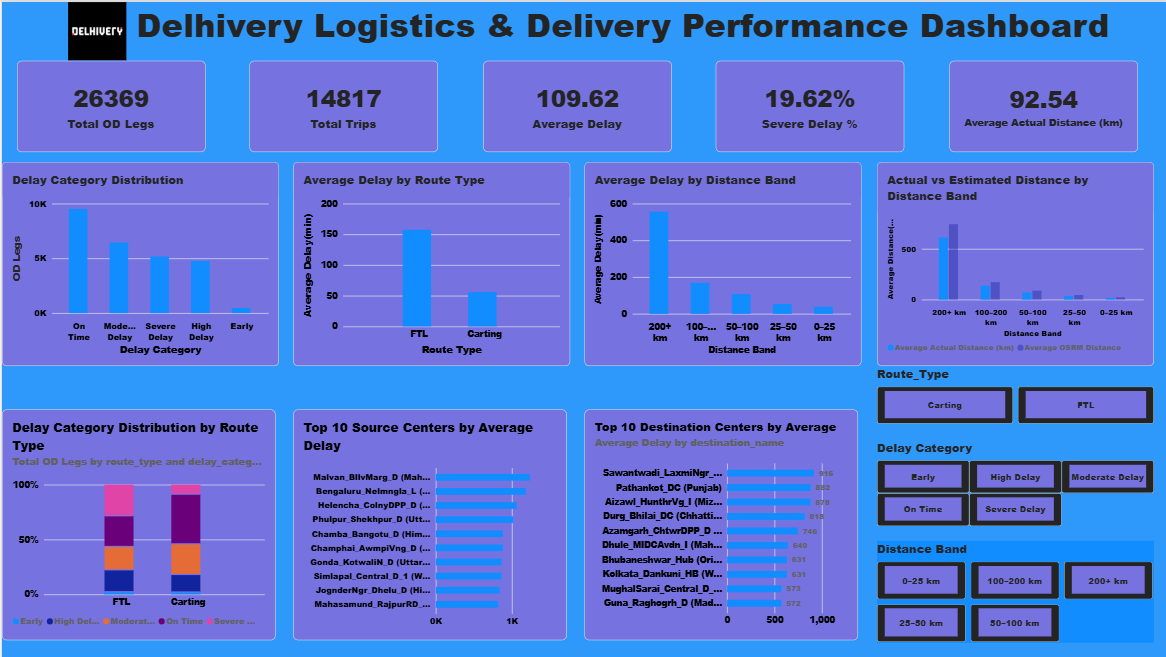

Layout of this report page (visuals, bound fields, positions):
{"tool":"powerbi","page":{"name":"Dashboard","canvas":[1920,1080],"ordinal":2},"visuals":[{"type":"card","fields":{"Values":["Delhivery_od_leg_analysis.Total OD Legs"]},"box":[24,96,310,150],"z":0},{"type":"card","fields":{"Values":["Delhivery_od_leg_analysis.Total Trips"]},"box":[408,96,310,150],"z":1000},{"type":"card","fields":{"Values":["Delhivery_od_leg_analysis.Average Delay"]},"box":[792,96,310,150],"z":2000},{"type":"card","fields":{"Values":["Delhivery_od_leg_analysis.Severe Delay %"]},"box":[1176,96,310,150],"z":3000},{"type":"card","fields":{"Values":["Delhivery_od_leg_analysis.Average Actual Distance (km)"]},"box":[1560,96,310,150],"z":4000},{"type":"clusteredColumnChart","title":"Delay Category Distribution","fields":{"Category":["Delhivery_od_leg_analysis.delay_category"],"Y":["Delhivery_od_leg_analysis.Total OD Legs"]},"box":[0,264,456,336],"z":5000},{"type":"columnChart","title":"Average Delay by Route Type","fields":{"Category":["Delhivery_od_leg_analysis.route_type"],"Y":["Delhivery_od_leg_analysis.Average Delay"]},"box":[480,264,456,336],"z":6000},{"type":"columnChart","title":"Average Delay by Distance Band","fields":{"Category":["Delhivery_od_leg_analysis.distance_band"],"Y":["Delhivery_od_leg_analysis.Average Delay"]},"box":[960,264,456,336],"z":7000},{"type":"clusteredColumnChart","title":"Actual vs Estimated Distance by Distance Band","fields":{"Category":["Delhivery_od_leg_analysis.distance_band"],"Y":["Delhivery_od_leg_analysis.Average Actual Distance (km)","Delhivery_od_leg_analysis.Average OSRM Distance"]},"box":[1440,264,456,336],"z":8000},{"type":"hundredPercentStackedColumnChart","title":"Delay Category Distribution by Route Type","fields":{"Category":["Delhivery_od_leg_analysis.route_type"],"Y":["Delhivery_od_leg_analysis.Total OD Legs"],"Series":["Delhivery_od_leg_analysis.delay_category"]},"box":[0,672,450,380],"z":9000},{"type":"clusteredBarChart","title":"Top 10 Source Centers by Average Delay","fields":{"Category":["Delhivery_od_leg_analysis.source_name"],"Y":["Delhivery_od_leg_analysis.Average Delay"]},"box":[480,672,450,380],"z":9001},{"type":"clusteredBarChart","title":"Top 10 Destination Centers by Average","fields":{"Category":["Delhivery_od_leg_analysis.destination_name"],"Y":["Delhivery_od_leg_analysis.Average Delay"]},"box":[960,672,450,380],"z":9002},{"type":"textbox","box":[0,0,1920,96],"z":9003},{"type":"image","box":[96,0,120,96],"z":9004},{"type":"advancedSlicerVisual","title":"Route_Type","fields":{"Values":["Delhivery_od_leg_analysis.route_type"]},"box":[1440,600,456,96],"z":9005},{"type":"advancedSlicerVisual","title":"Delay Category","fields":{"Values":["Delhivery_od_leg_analysis.delay_category"]},"box":[1440,720,456,144],"z":9006},{"type":"advancedSlicerVisual","title":"Distance Band","fields":{"Values":["Delhivery_od_leg_analysis.distance_band"]},"box":[1440,888,456,168],"z":9007}]}

Visuals, with their boxes in screenshot pixels (x1, y1, x2, y2), scaled from the page's 1920x1080 canvas onto the 1166x657 screenshot:
card - Delhivery_od_leg_analysis.Total OD Legs: l=15, t=58, r=203, b=150
card - Delhivery_od_leg_analysis.Total Trips: l=248, t=58, r=436, b=150
card - Delhivery_od_leg_analysis.Average Delay: l=481, t=58, r=669, b=150
card - Delhivery_od_leg_analysis.Severe Delay %: l=714, t=58, r=902, b=150
card - Delhivery_od_leg_analysis.Average Actual Distance (km): l=947, t=58, r=1136, b=150
"Delay Category Distribution" clusteredColumnChart: l=0, t=161, r=277, b=365
"Average Delay by Route Type" columnChart: l=292, t=161, r=568, b=365
"Average Delay by Distance Band" columnChart: l=583, t=161, r=860, b=365
"Actual vs Estimated Distance by Distance Band" clusteredColumnChart: l=874, t=161, r=1151, b=365
"Delay Category Distribution by Route Type" hundredPercentStackedColumnChart: l=0, t=409, r=273, b=640
"Top 10 Source Centers by Average Delay" clusteredBarChart: l=292, t=409, r=565, b=640
"Top 10 Destination Centers by Average" clusteredBarChart: l=583, t=409, r=856, b=640
textbox: l=0, t=0, r=1165, b=58
image: l=58, t=0, r=131, b=58
"Route_Type" advancedSlicerVisual: l=874, t=365, r=1151, b=423
"Delay Category" advancedSlicerVisual: l=874, t=438, r=1151, b=526
"Distance Band" advancedSlicerVisual: l=874, t=540, r=1151, b=642
